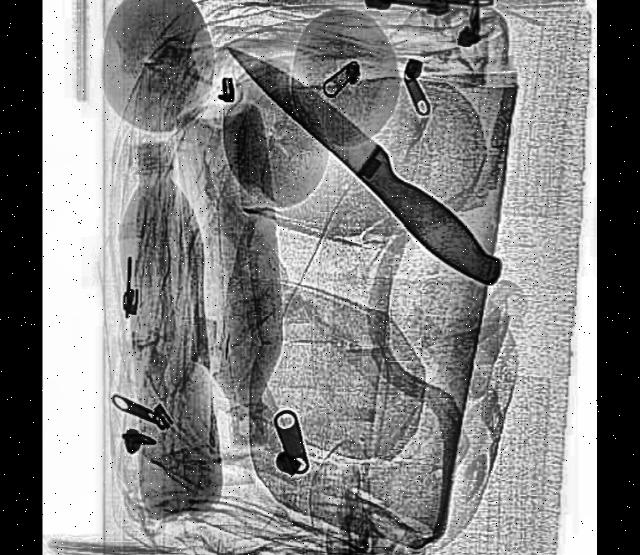Knife: (214, 20, 513, 294)
